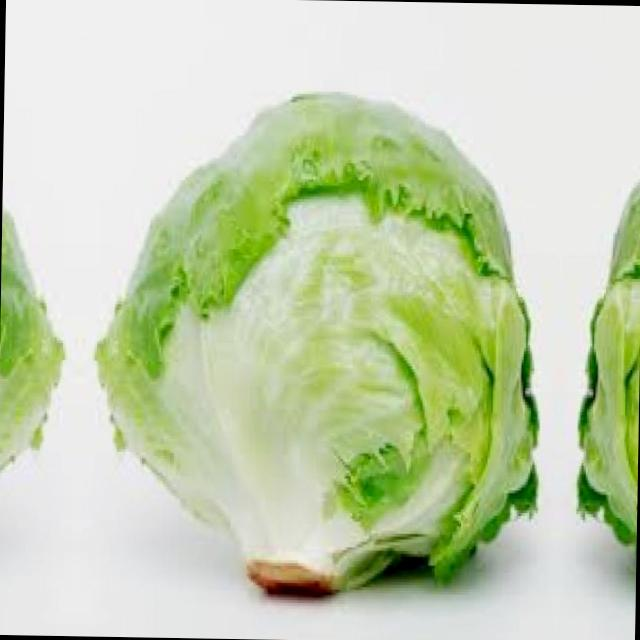healthy: (93, 81, 544, 597), (0, 79, 66, 588), (575, 89, 640, 598)
